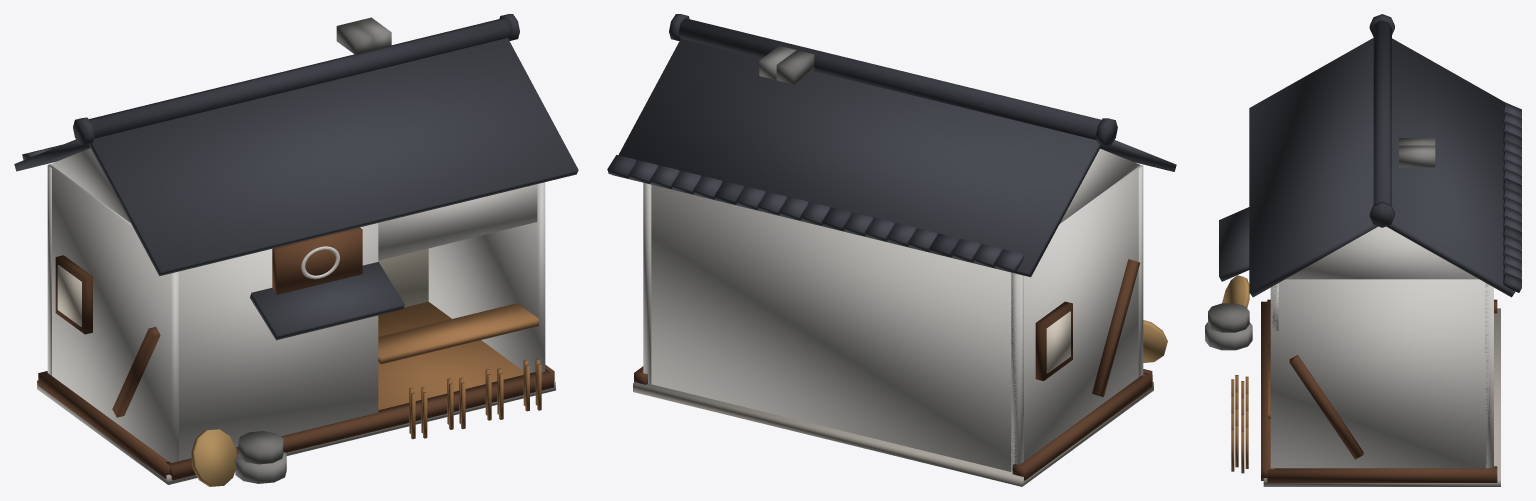
Rendered from soba.glb.
3 views of the same model, side by side, from view 1: azimuth 30°, elevation 25°; view 2: azimuth 150°, elevation 25°; view 3: azimuth 270°, elevation 25° (orthographic). The views are drawn at different scales.
Parts seen in each view (by area): view 1: soba; view 2: soba; view 3: soba.
Part boxes in pixels (<box>): soba: <box>14,14,578,486</box>; soba: <box>607,14,1176,486</box>; soba: <box>1205,14,1521,486</box>.
Bounding box in the file's own units: 3.24 × 2.33 × 2.27.
